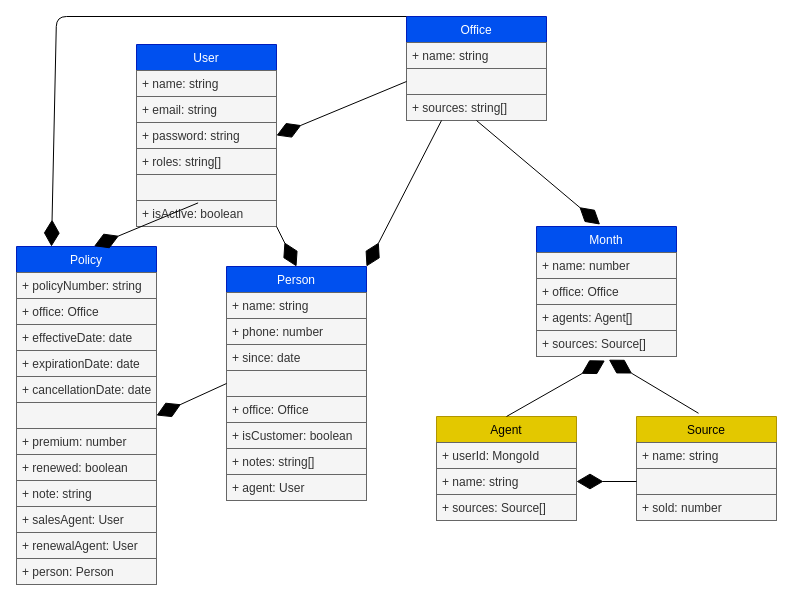
Some shapes in this 793 by 601 pixel diagram are drawn without their labels. The shapes that lost their labels are listed below. From the top down, each one's centre as x and y in pixels, then its label:
At (x=476, y=81): "+ sebanda: number".
At (x=206, y=187): "+ offices: Office[]".
At (x=296, y=383): "+ source: string".
At (x=86, y=415): "+ carrier: string".
At (x=706, y=481): "+ amount: number".
